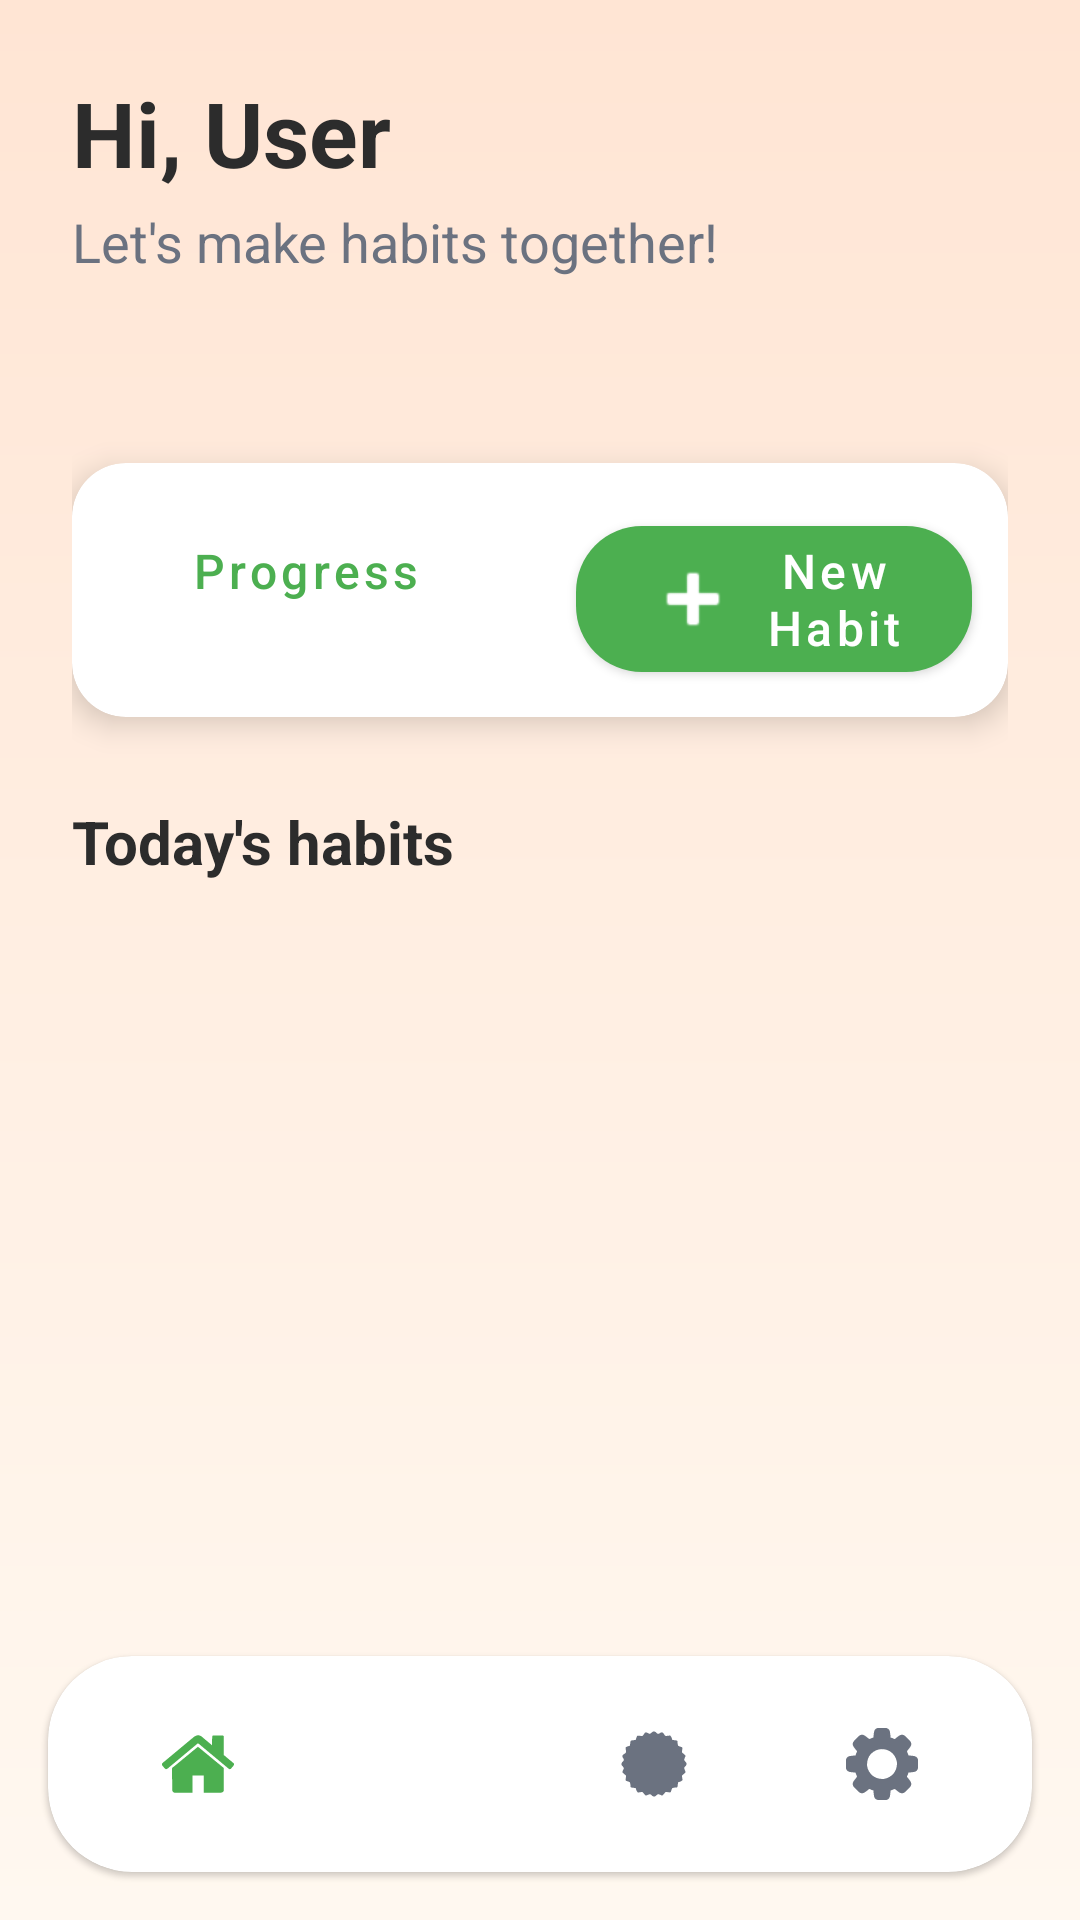

Icons on this 1080*1920 Android screen, each with its box as (x1, y1, x2, y2):
Achievements: (621, 1731, 687, 1797)
Home: (162, 1735, 234, 1793)
Settings: (846, 1728, 918, 1800)
